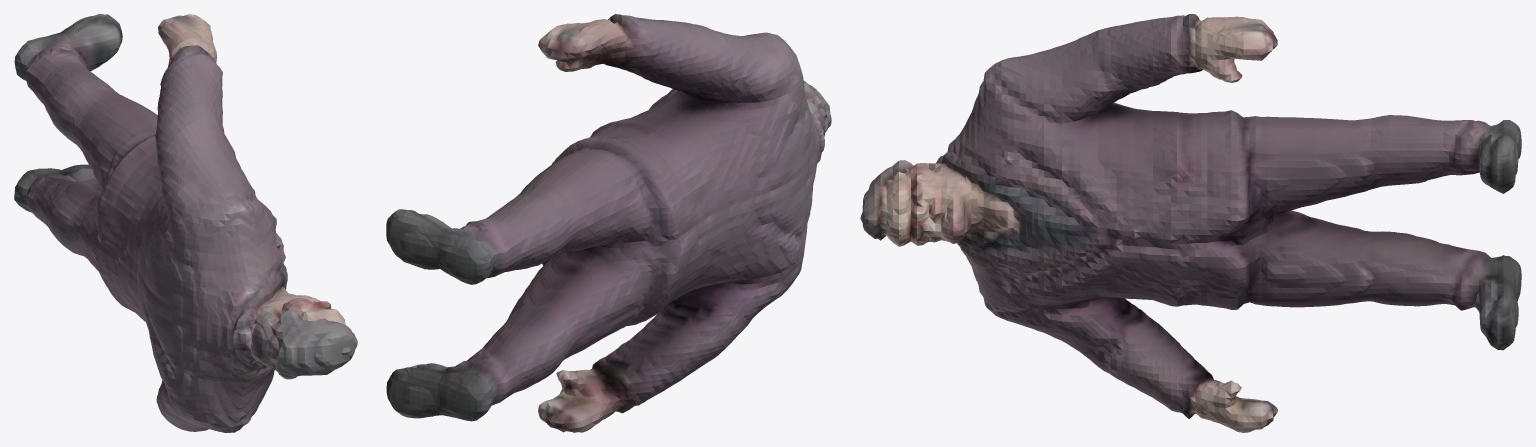
Rendered from patron-v1.glb.
3 views of the same model, side by side, from view 1: azimuth 30°, elevation 25°; view 2: azimuth 150°, elevation 25°; view 3: azimuth 270°, elevation 25° (orthographic). The views are drawn at different scales.
Parts seen in each view (by area): view 1: geometry_0; view 2: geometry_0; view 3: geometry_0.
Boxes of the visible parts, left/top/right/bottom form: geometry_0: left=14, top=14, right=357, bottom=432; geometry_0: left=386, top=14, right=831, bottom=432; geometry_0: left=860, top=14, right=1521, bottom=432.
Size of the model in its own units: 0.3205 by 0.6734 by 0.9962.
